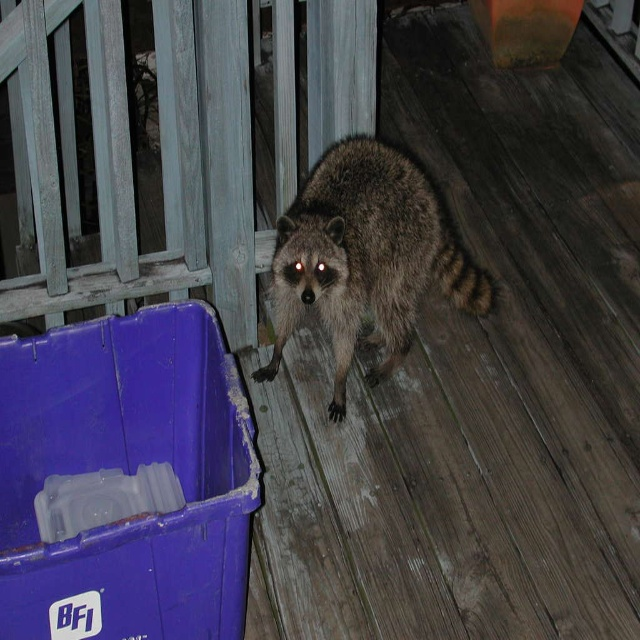Raccoon: (247, 133, 500, 421)
